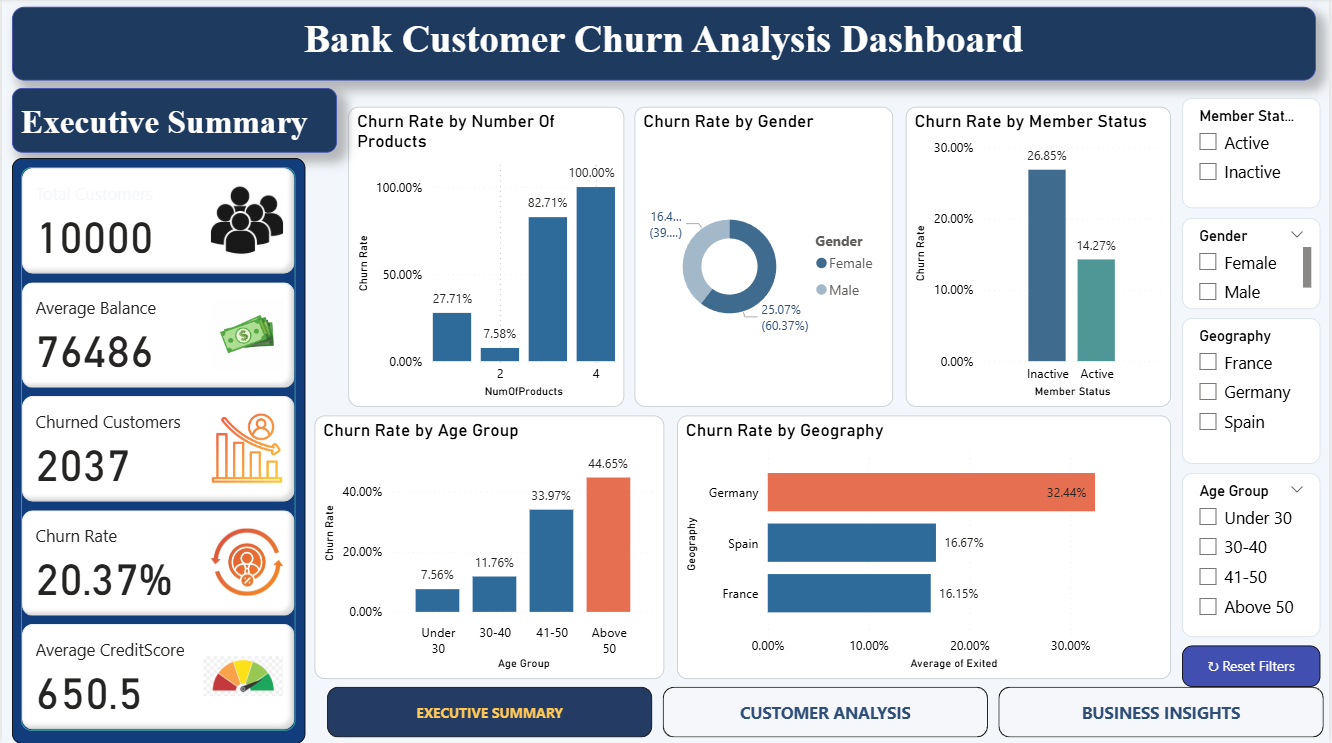

What the dashboard file says about the page in this screenshot:
{"tool":"powerbi","page":{"name":"EXECUTIVE SUMMARY","canvas":[1280,720],"ordinal":0},"visuals":[{"type":"clusteredBarChart","title":"Churn Rate by Geography","fields":{"Category":["Bank_Churn.Geography"],"Y":["Avg(Bank_Churn.Exited)"]},"box":[651.5,403,476.5,254.6],"z":0},{"type":"clusteredColumnChart","fields":{"Category":["Bank_Churn.Age Group"],"Y":["Bank_Churn.Churn Rate"]},"box":[301.6,403,337.8,254.6],"z":1000},{"type":"donutChart","fields":{"Category":["Bank_Churn.Gender"],"Y":["Bank_Churn.Churn Rate"]},"box":[610.5,105,249.7,289.5],"z":2000},{"type":"clusteredColumnChart","fields":{"Y":["Bank_Churn.Churn Rate"],"Category":["Bank_Churn.Member Status"]},"box":[872.3,105,255.8,289.5],"z":3000},{"type":"columnChart","title":"Churn Rate by Number Of Products","fields":{"Category":["Bank_Churn.NumOfProducts"],"Y":["Bank_Churn.Churn Rate"]},"box":[334.2,105,266.6,289.5],"z":4000},{"type":"slicer","fields":{"Values":["Bank_Churn.Geography"]},"box":[1138.9,308.8,133.9,141.2],"z":5000},{"type":"slicer","fields":{"Values":["Bank_Churn.Gender"]},"box":[1138.9,212.3,133.9,88.1],"z":6000},{"type":"slicer","fields":{"Values":["Bank_Churn.Age Group"]},"box":[1138.9,458.4,133.9,158],"z":7000},{"type":"textbox","box":[9.7,8.4,1258.3,71.2],"z":8000},{"type":"textbox","box":[9.7,86.9,313.7,62.7],"z":9000},{"type":"cardVisual","fields":{"Data":["CountNonNull(Bank_Churn.CustomerId)","Bank_Churn.Average Balance","Bank_Churn.Churned Customers","Bank_Churn.Churn Rate","Avg(Bank_Churn.CreditScore)"]},"box":[9.7,154.4,283.5,565.8],"z":10000},{"type":"slicer","fields":{"Values":["Bank_Churn.Member Status"]},"box":[1138.9,96.5,133.9,106.2],"z":11000},{"type":"pageNavigator","box":[313.7,664.7,963.9,49.5],"z":12000},{"type":"actionButton","box":[1138.9,624.9,133.9,39.8],"z":13000}]}

Visuals, with their boxes in screenshot pixels (x1, y1, x2, y2), scaled from the page's 1280x720 canvas onto the 1332x743 screenshot:
"Churn Rate by Geography" clusteredBarChart: (x1=678, y1=416, x2=1174, y2=679)
clusteredColumnChart - Bank_Churn.Age Group x Bank_Churn.Churn Rate: (x1=314, y1=416, x2=665, y2=679)
donutChart - Bank_Churn.Gender x Bank_Churn.Churn Rate: (x1=635, y1=108, x2=895, y2=407)
clusteredColumnChart - Bank_Churn.Churn Rate x Bank_Churn.Member Status: (x1=908, y1=108, x2=1174, y2=407)
"Churn Rate by Number Of Products" columnChart: (x1=348, y1=108, x2=625, y2=407)
slicer - Bank_Churn.Geography: (x1=1185, y1=319, x2=1325, y2=464)
slicer - Bank_Churn.Gender: (x1=1185, y1=219, x2=1325, y2=310)
slicer - Bank_Churn.Age Group: (x1=1185, y1=473, x2=1325, y2=636)
textbox: (x1=10, y1=9, x2=1320, y2=82)
textbox: (x1=10, y1=90, x2=337, y2=154)
cardVisual - CountNonNull(Bank_Churn.CustomerId) x Bank_Churn.Average Balance: (x1=10, y1=159, x2=305, y2=742)
slicer - Bank_Churn.Member Status: (x1=1185, y1=100, x2=1325, y2=209)
pageNavigator: (x1=326, y1=686, x2=1330, y2=737)
actionButton: (x1=1185, y1=645, x2=1325, y2=686)
